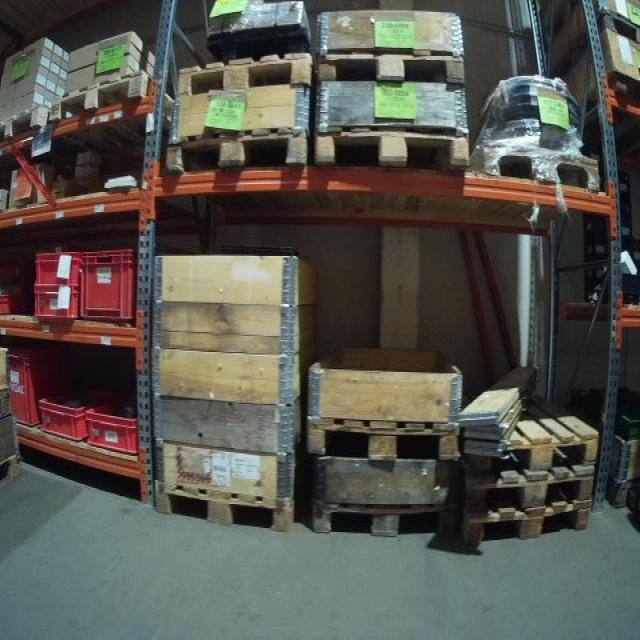pallet: (462, 385, 604, 483), (154, 481, 298, 534), (306, 414, 461, 460), (164, 127, 308, 174), (477, 140, 603, 193), (312, 129, 472, 170), (459, 501, 592, 549), (464, 475, 596, 523), (178, 51, 312, 97), (315, 50, 466, 89), (50, 69, 151, 124), (313, 500, 457, 537), (597, 8, 640, 44), (1, 455, 24, 486)
small_load_carrier: (5, 349, 78, 432), (81, 247, 138, 318), (90, 395, 144, 451), (41, 394, 89, 445), (31, 285, 84, 324), (31, 246, 78, 283)
